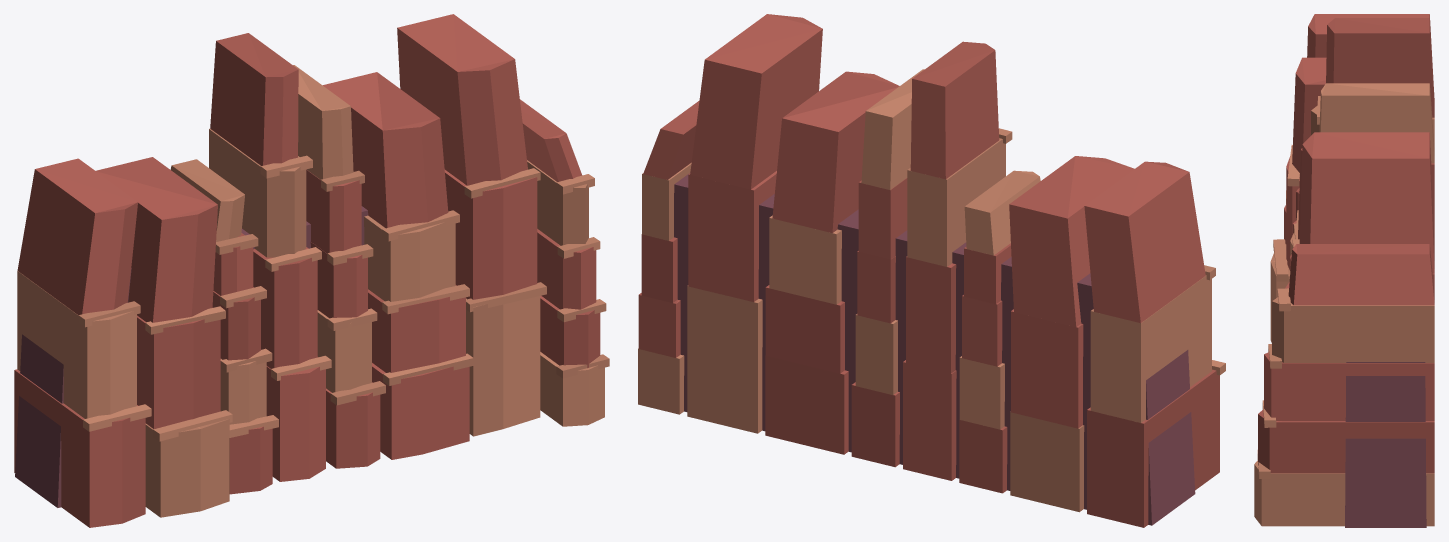
Rendered from Rock_Cliff_Wall.fbx.
3 renders of one model, left to right at view 1: azimuth 30°, elevation 25°; view 2: azimuth 150°, elevation 25°; view 3: azimuth 270°, elevation 25°, orthographic. The views are drawn at different scales.
Parts seen in each view (by area): view 1: Rock_Cliff_Wall; view 2: Rock_Cliff_Wall; view 3: Rock_Cliff_Wall.
Boxes of the visible parts, box(x1,y1,x2,y2) form: Rock_Cliff_Wall: box(14, 14, 609, 527); Rock_Cliff_Wall: box(638, 14, 1225, 527); Rock_Cliff_Wall: box(1254, 14, 1434, 527).
Size of the model in its own units: 48 by 34.85 by 15.49.
